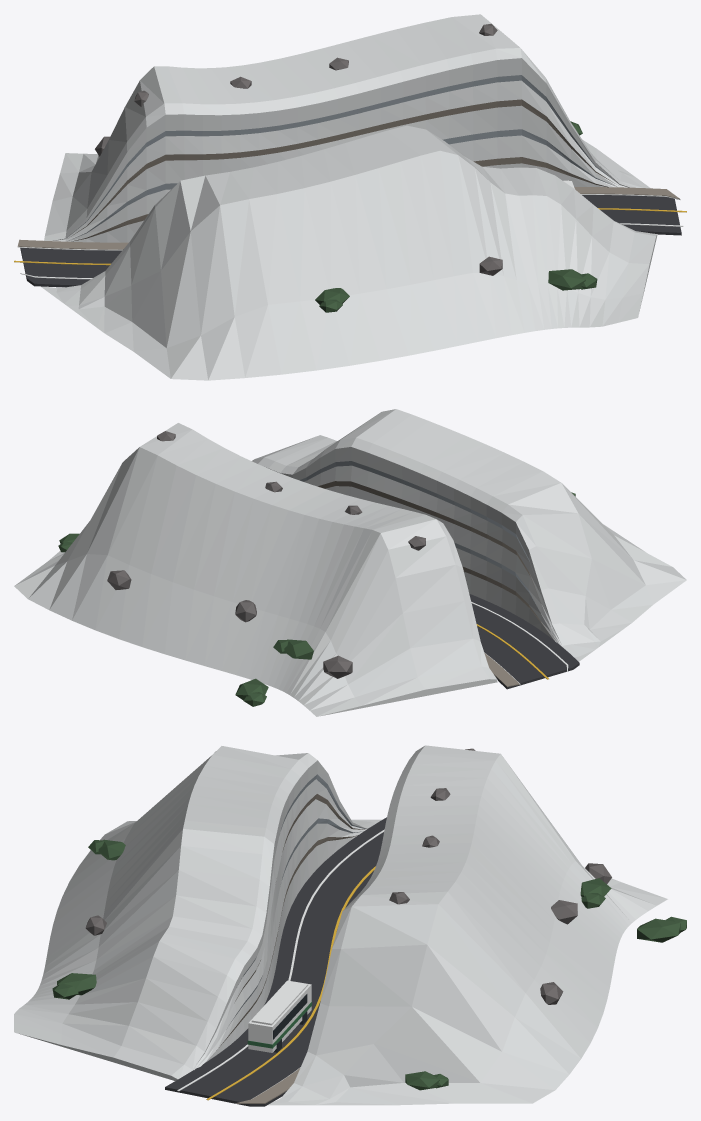
The model's file is tateyama-kurobe.glb.
3 views of the same model, one above another, from view 1: azimuth 30°, elevation 25°; view 2: azimuth 150°, elevation 25°; view 3: azimuth 270°, elevation 25° (orthographic). The views are drawn at different scales.
Visible parts, largest first — view 1: yuki_snow, yuki_asphalt, yuki_dirt, yuki_band, yuki_pine, yuki_rock, yuki_white; view 2: yuki_snow, yuki_asphalt, yuki_rock, yuki_dirt, yuki_pine, yuki_band; view 3: yuki_snow, yuki_asphalt, yuki_pine, yuki_white, yuki_rock, yuki_dirt, yuki_line, yuki_band.
Part boxes in pixels (x1,y1,x2,y2): yuki_snow: [40, 14, 657, 380]; yuki_asphalt: [20, 195, 681, 287]; yuki_dirt: [17, 99, 679, 249]; yuki_band: [69, 75, 613, 240]; yuki_pine: [315, 121, 597, 312]; yuki_rock: [95, 23, 502, 275]; yuki_white: [17, 180, 683, 279]; yuki_snow: [14, 409, 686, 716]; yuki_asphalt: [469, 594, 579, 689]; yuki_rock: [107, 431, 425, 678]; yuki_dirt: [318, 481, 548, 686]; yuki_pine: [58, 492, 575, 706]; yuki_band: [299, 461, 539, 610]; yuki_snow: [14, 745, 667, 1105]; yuki_asphalt: [165, 817, 386, 1106]; yuki_pine: [52, 839, 686, 1090]; yuki_white: [177, 829, 384, 1103]; yuki_rock: [85, 748, 611, 1004]; yuki_dirt: [216, 794, 364, 1103]; yuki_line: [206, 866, 375, 1100]; yuki_band: [229, 774, 364, 1024].
Bounding box in the file's own units: 19.1 × 4.8 × 18.63.
